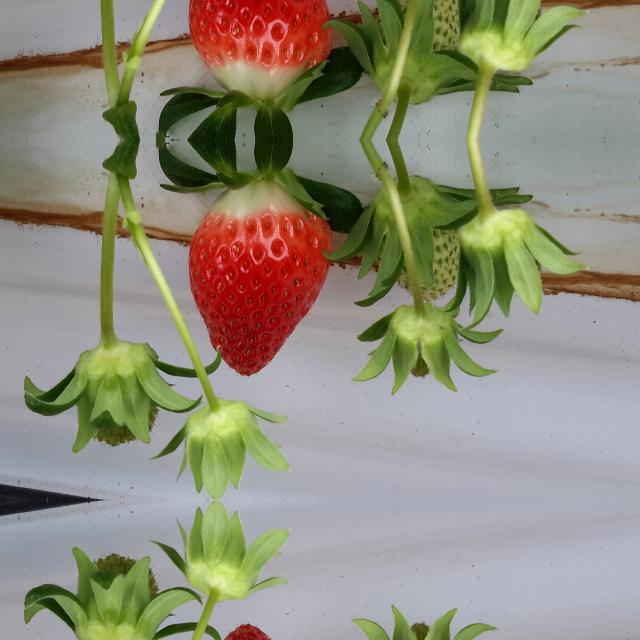Health_100: (187, 190, 331, 378), (187, 0, 331, 90)
Health_25: (382, 199, 462, 301), (382, 0, 462, 81)
